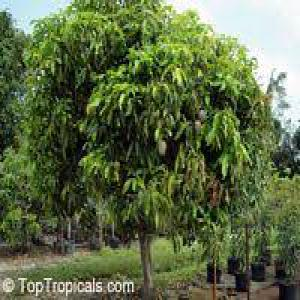Tree: (21, 4, 273, 288)
